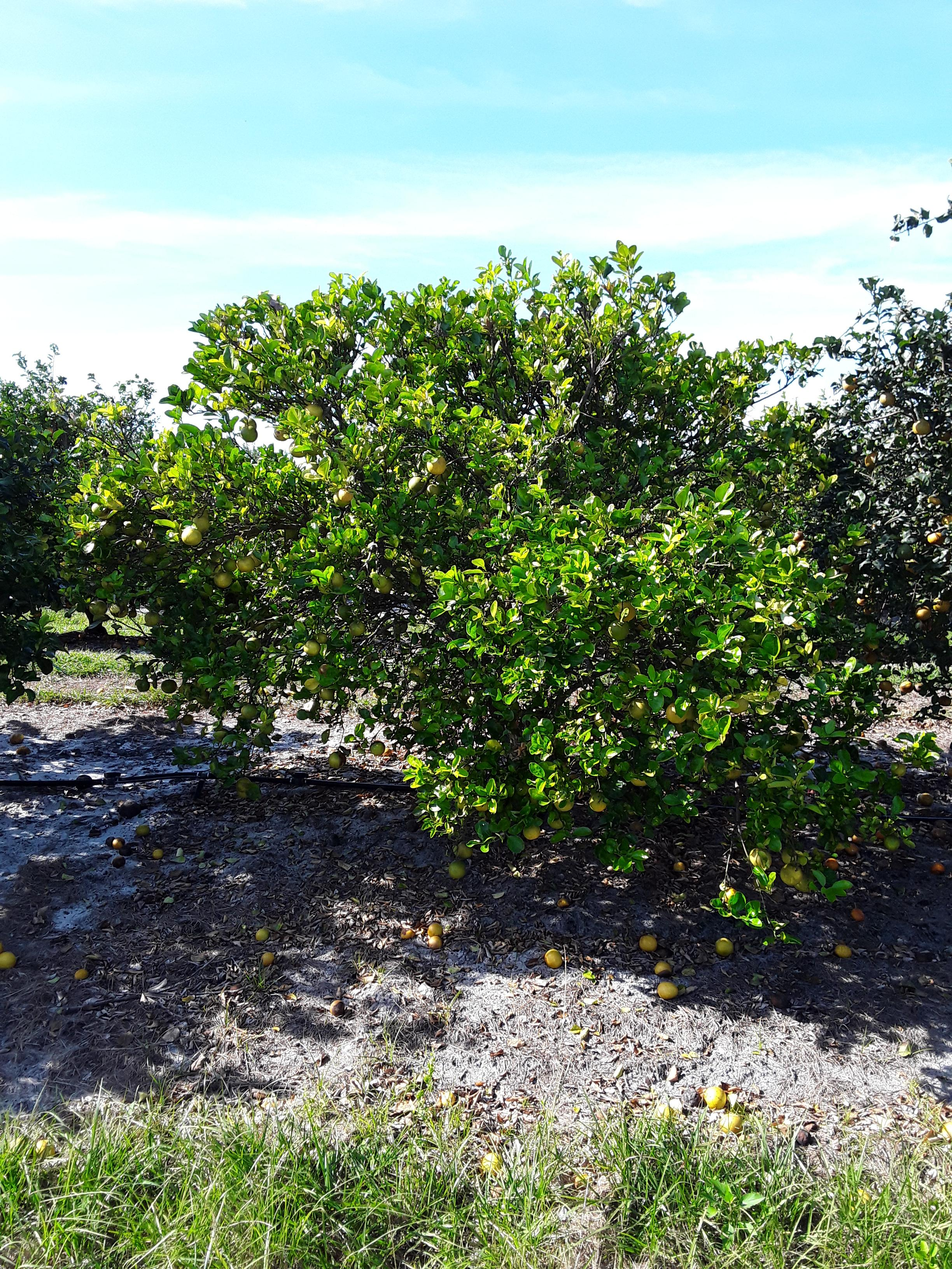fruit_on_ground: (628, 695, 655, 722), (663, 701, 688, 727), (607, 619, 635, 641), (780, 860, 803, 886), (792, 869, 815, 895), (609, 600, 637, 621), (749, 847, 774, 870), (181, 527, 202, 554), (211, 572, 233, 596), (916, 600, 938, 624), (629, 768, 654, 789), (448, 856, 469, 881), (534, 592, 556, 615), (779, 843, 802, 865), (553, 790, 575, 812), (427, 454, 450, 475), (632, 614, 655, 635), (774, 734, 797, 755), (911, 417, 934, 437), (878, 387, 897, 411), (337, 486, 356, 510), (588, 792, 608, 814), (789, 727, 808, 750), (191, 515, 214, 533), (328, 749, 346, 772), (456, 841, 479, 859), (545, 813, 569, 830), (303, 404, 324, 423), (238, 425, 259, 444), (331, 489, 350, 510), (902, 558, 923, 577), (368, 740, 391, 757), (233, 556, 257, 572), (408, 475, 427, 495), (450, 792, 470, 811), (474, 796, 495, 814), (882, 833, 900, 854), (109, 601, 128, 620), (592, 710, 611, 729), (329, 571, 347, 591), (349, 619, 369, 637), (722, 886, 740, 906), (466, 461, 488, 477), (924, 533, 943, 551), (931, 601, 948, 621), (725, 759, 742, 779), (572, 439, 588, 460), (371, 573, 389, 591), (304, 640, 322, 658), (409, 664, 427, 682), (289, 441, 308, 458), (896, 544, 915, 561), (319, 662, 336, 681), (841, 374, 858, 393), (240, 413, 260, 429), (206, 550, 226, 566), (88, 599, 108, 615), (143, 609, 161, 626), (320, 687, 338, 704), (411, 715, 429, 732), (235, 776, 252, 794), (193, 689, 212, 705), (241, 704, 260, 720), (890, 762, 909, 778), (526, 822, 542, 841), (245, 635, 262, 652), (337, 604, 355, 620), (194, 675, 212, 691), (160, 678, 178, 694), (221, 558, 240, 573), (248, 616, 267, 631), (89, 502, 109, 516), (923, 496, 944, 509), (273, 426, 290, 442), (283, 524, 300, 540), (379, 578, 396, 594), (436, 468, 451, 486), (99, 521, 117, 536), (179, 683, 195, 699), (525, 829, 541, 845), (142, 551, 159, 566), (135, 678, 153, 692), (119, 522, 138, 535), (937, 426, 952, 442), (426, 483, 442, 498), (235, 786, 250, 802), (95, 507, 112, 521), (251, 734, 268, 748), (863, 456, 876, 474), (313, 631, 331, 644), (758, 515, 774, 529), (180, 713, 196, 727), (258, 721, 275, 734), (468, 528, 483, 542), (879, 678, 894, 692), (795, 539, 811, 552), (553, 506, 567, 520), (408, 556, 424, 568), (863, 651, 879, 663), (900, 680, 913, 694), (914, 681, 928, 694), (133, 539, 148, 551), (936, 695, 951, 707), (791, 531, 806, 542), (856, 595, 869, 607), (760, 501, 774, 512), (942, 514, 952, 528), (444, 463, 453, 477), (128, 608, 139, 619), (863, 606, 876, 615)
fruit_on_tree: (480, 1146, 505, 1179), (702, 1085, 728, 1112), (655, 979, 684, 1001), (719, 1111, 743, 1136), (654, 1103, 681, 1125), (118, 799, 144, 819), (714, 937, 737, 959), (544, 948, 565, 971), (794, 1127, 815, 1149), (574, 1172, 595, 1194), (639, 933, 660, 953), (854, 1186, 873, 1208), (832, 942, 852, 962), (770, 991, 791, 1009), (75, 774, 95, 792), (2, 951, 16, 976), (329, 999, 348, 1017), (823, 856, 843, 873), (437, 1090, 457, 1107), (427, 919, 443, 940), (659, 956, 675, 977), (940, 1120, 952, 1145), (260, 951, 277, 968), (850, 906, 865, 925), (628, 819, 644, 836), (917, 792, 934, 807), (842, 841, 859, 856), (400, 925, 415, 942), (256, 925, 270, 943), (14, 745, 33, 758), (9, 731, 26, 745), (851, 832, 868, 846), (110, 856, 128, 869), (72, 967, 91, 979), (930, 861, 945, 876), (428, 935, 444, 949), (135, 824, 152, 837), (154, 845, 167, 862), (673, 860, 686, 877), (117, 846, 137, 857), (929, 827, 947, 839), (112, 836, 127, 850), (935, 817, 951, 830), (560, 898, 572, 913), (873, 828, 886, 841), (876, 738, 888, 750), (104, 835, 116, 847), (874, 760, 886, 771), (856, 729, 866, 741), (944, 766, 952, 781), (0, 940, 6, 956), (66, 732, 76, 740)
